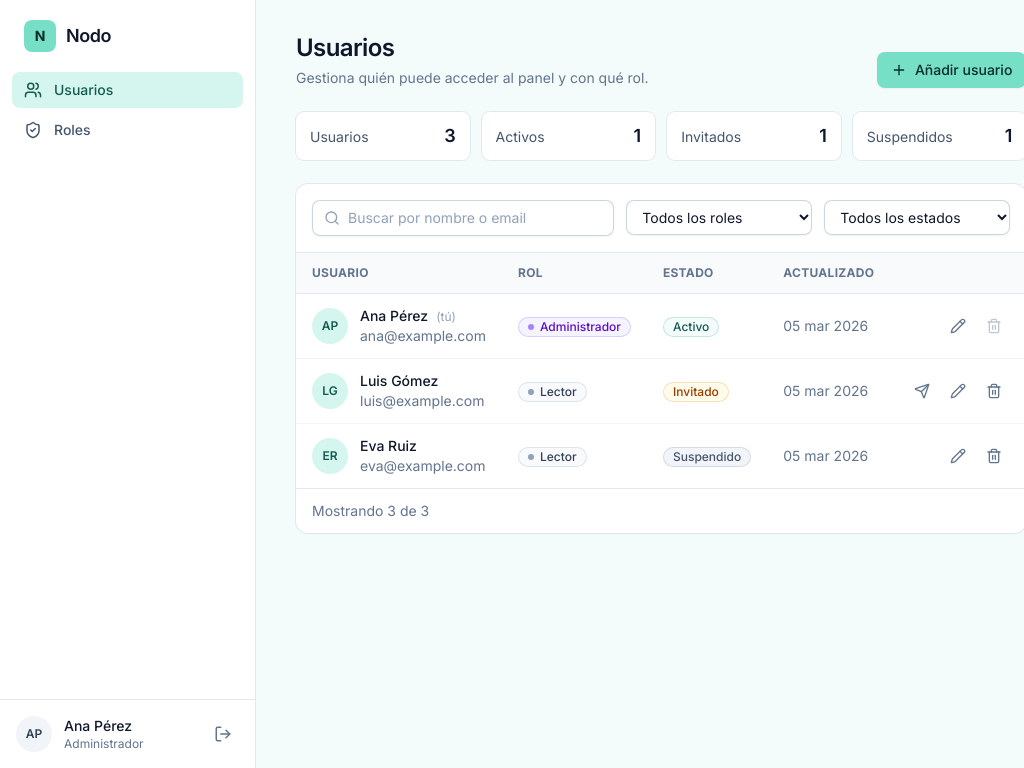
Scenario: Dashboard › elimina un usuario tras confirmarlo y lo anuncia
Step 1. Click the button named "Eliminar a Luis Gómez" → (994, 391), box x1=978 y1=375 x2=1010 y2=407
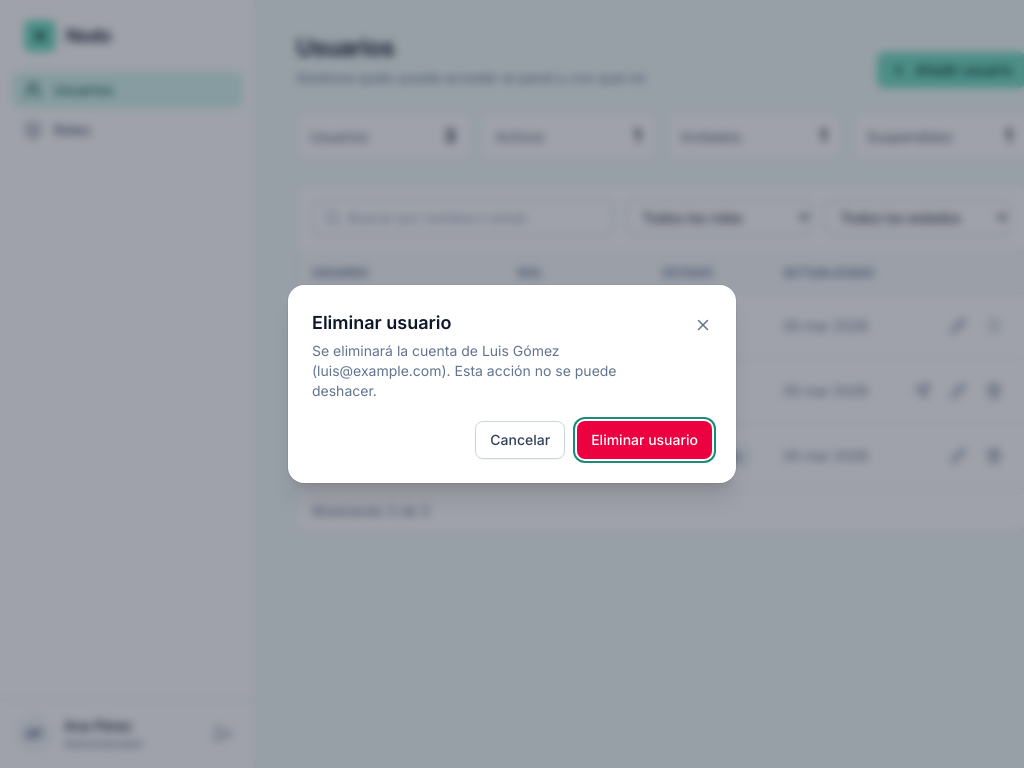
Step 2. Click the button "Eliminar usuario" → (645, 440), box x1=577 y1=421 x2=712 y2=459
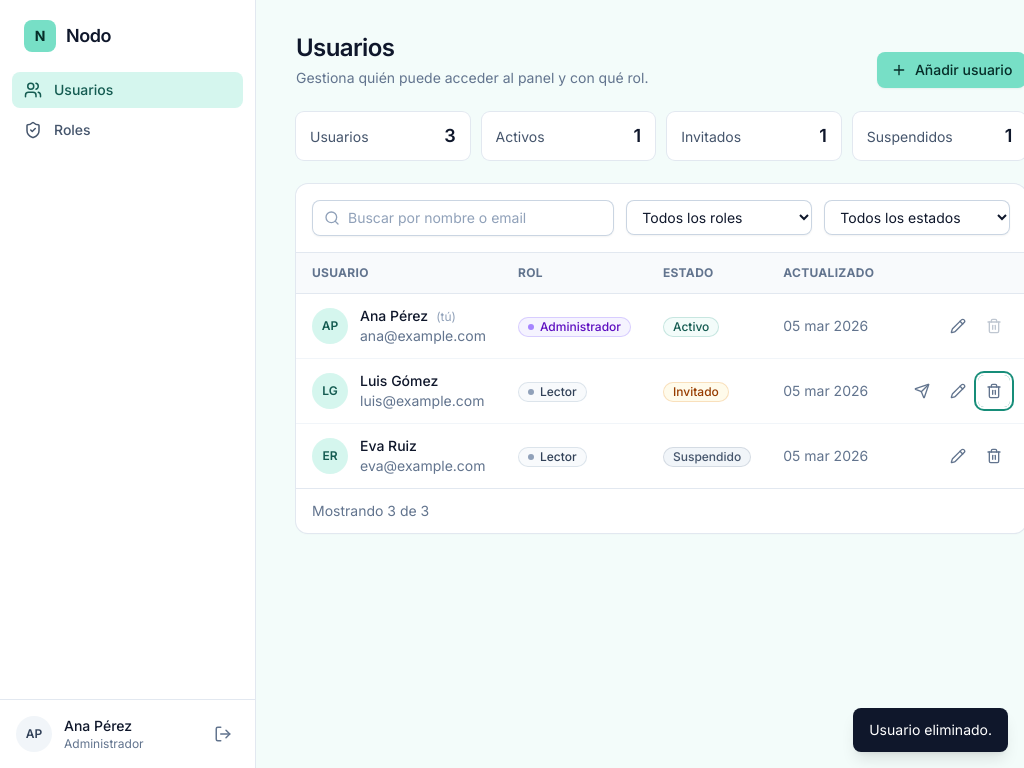
Expected: the message reads "Usuario eliminado.", x1=869 y1=721 x2=992 y2=738
